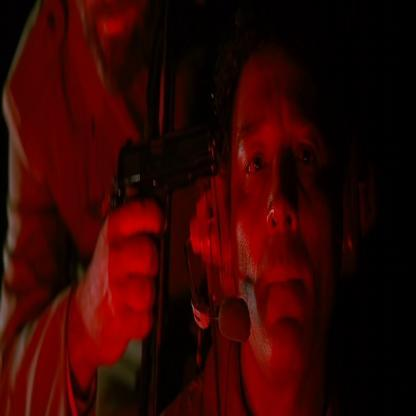gun: (111, 96, 242, 223)
